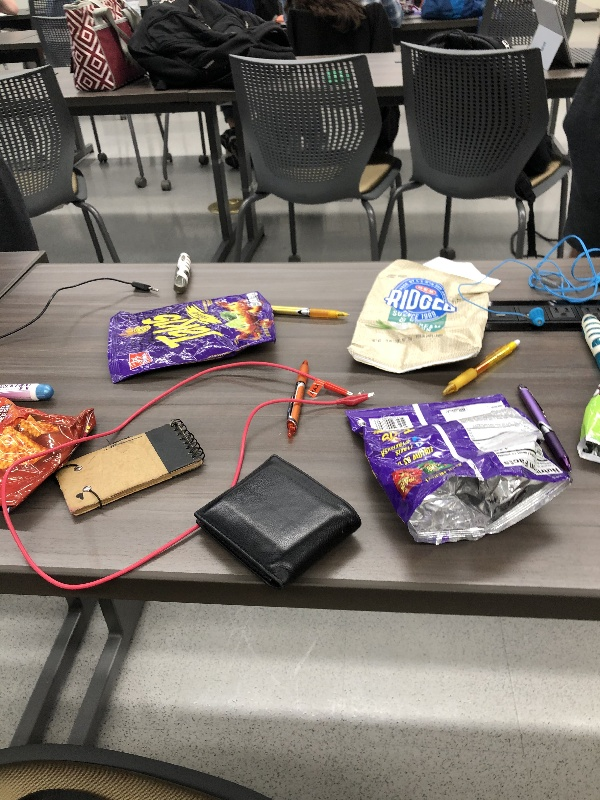bag: (342, 392, 579, 559), (343, 255, 498, 373), (104, 289, 280, 384), (1, 393, 100, 522), (573, 369, 600, 467)
